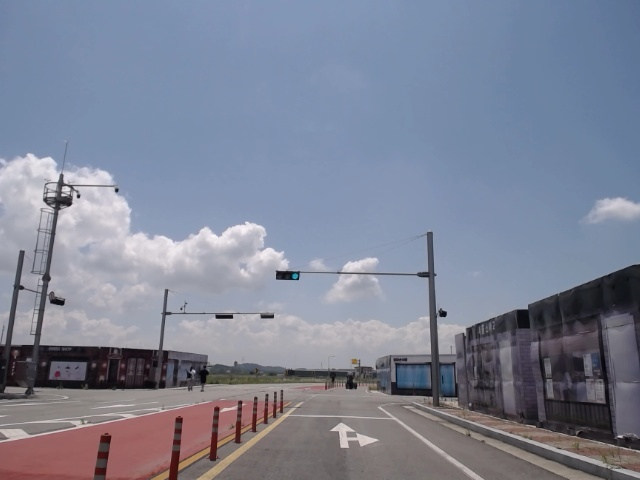green_3: (275, 272, 299, 280)
